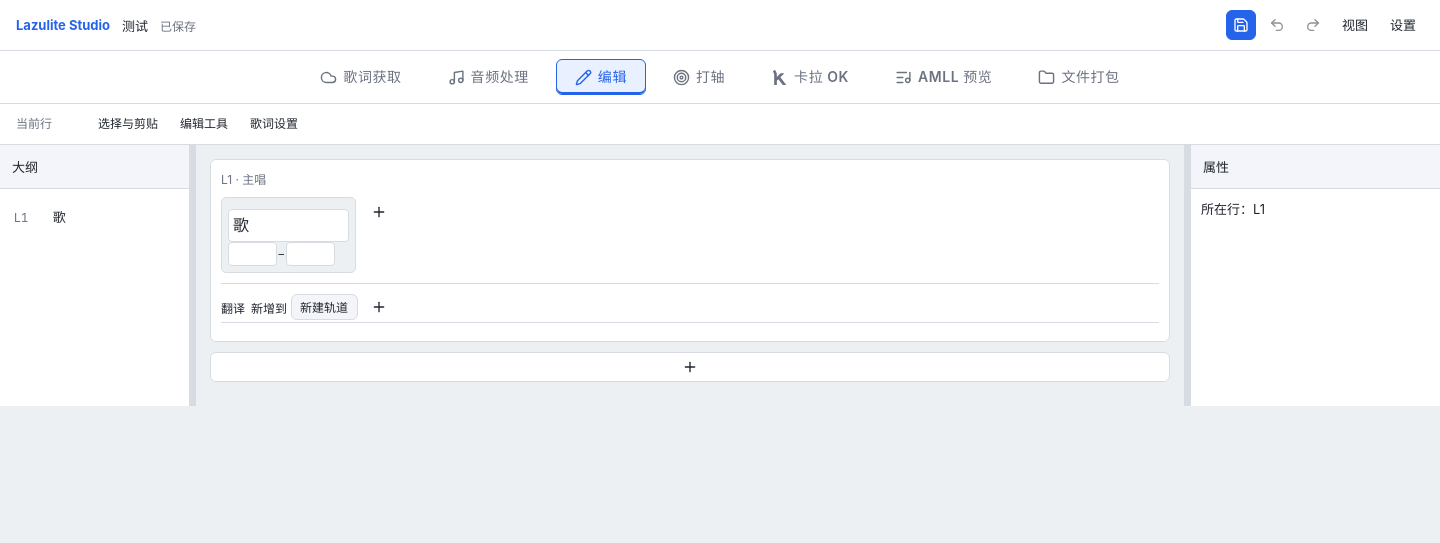
Test case: keeps the selected object and real focus when deletion is rejected
Click the element showing "–" at (289, 235), box [221,197,356,273]
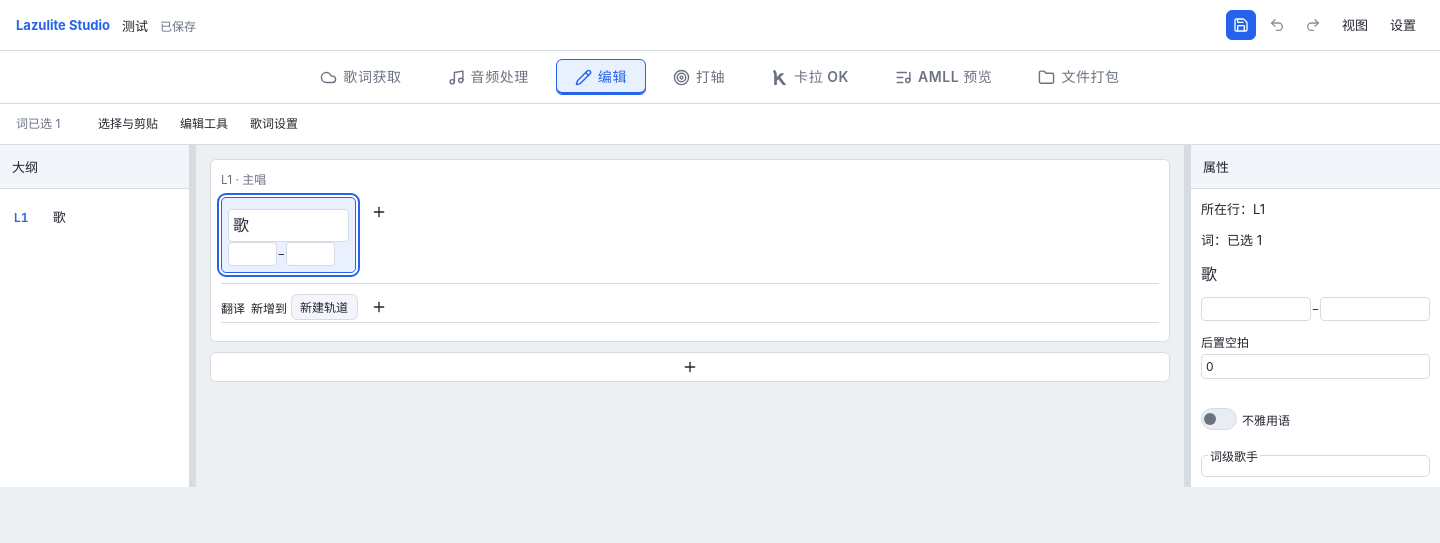
Press Delete in the element showing "–" below "主唱", box [221,197,356,273]
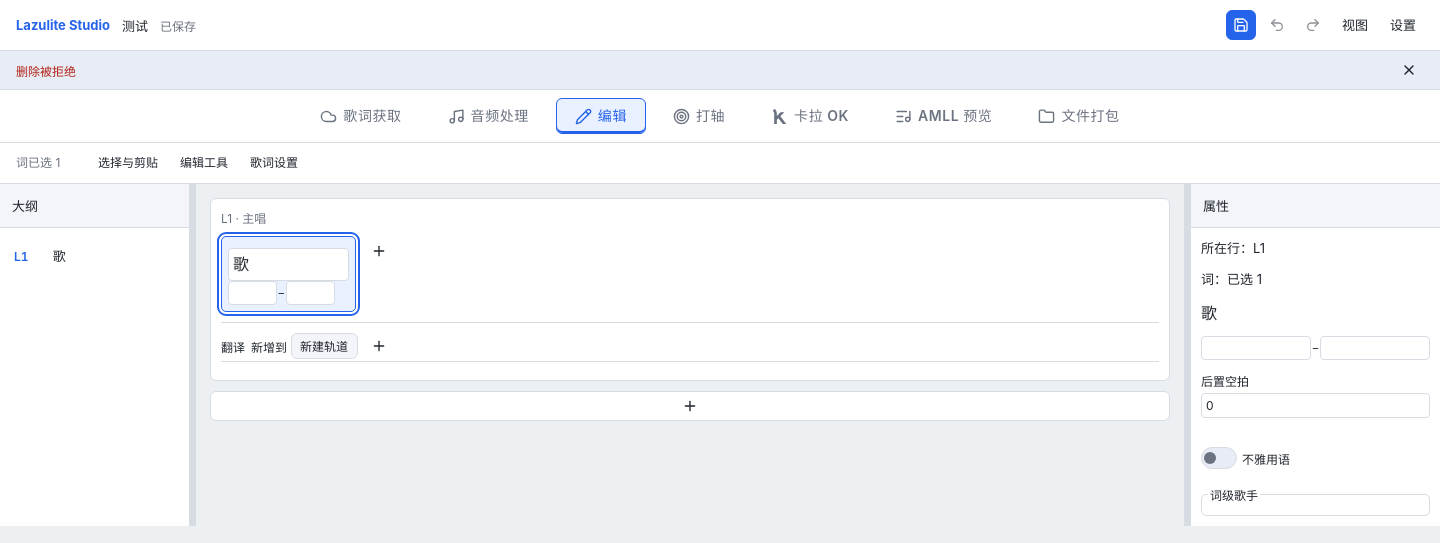
Result: the message reads "删除被拒绝" at [16,64,76,78]
